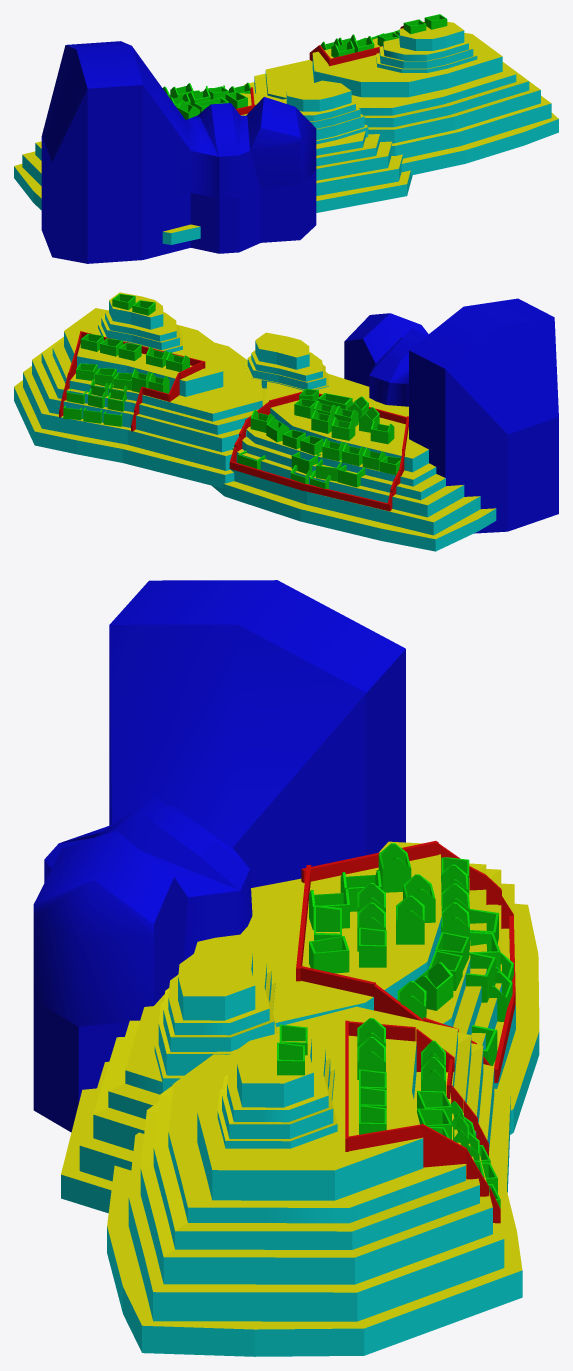
File: MachuPicchu_Model.fbx
The picture shows the model from 3 angles, top to bottom: view 1: azimuth 30°, elevation 25°; view 2: azimuth 150°, elevation 25°; view 3: azimuth 270°, elevation 25°; orthographic projection. The views are drawn at different scales.
Visible parts, largest first — view 1: MachuPicchu_Model; view 2: MachuPicchu_Model; view 3: MachuPicchu_Model.
Part boxes in pixels (x1,y1,x2,y2): MachuPicchu_Model: (14,14,558,263); MachuPicchu_Model: (14,292,558,551); MachuPicchu_Model: (33,580,539,1356).
Size of the model in its own units: 7672 by 2759 by 3407.
